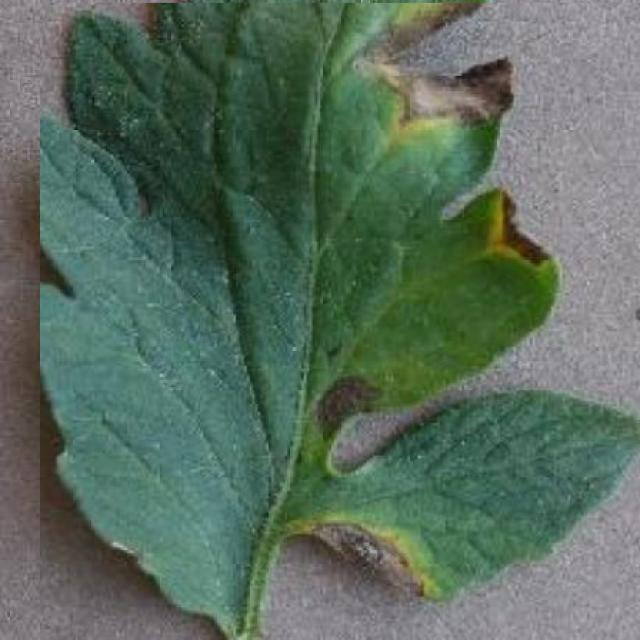Early Blight: (40, 3, 640, 640)
